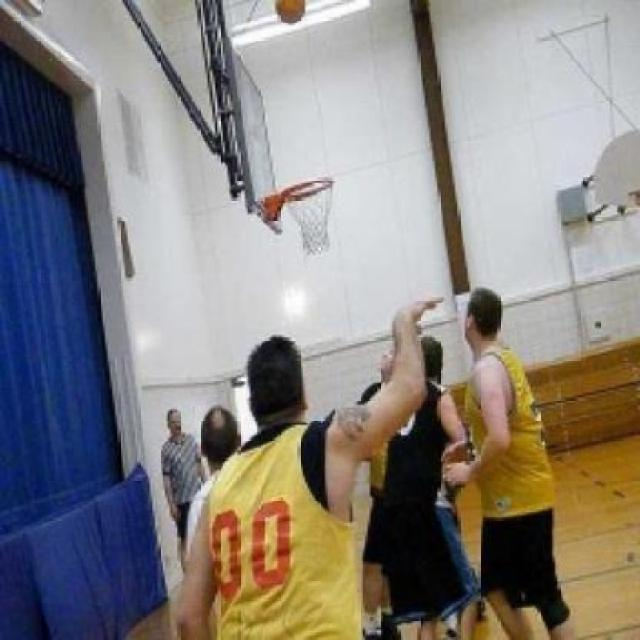rim: (280, 177, 332, 255)
